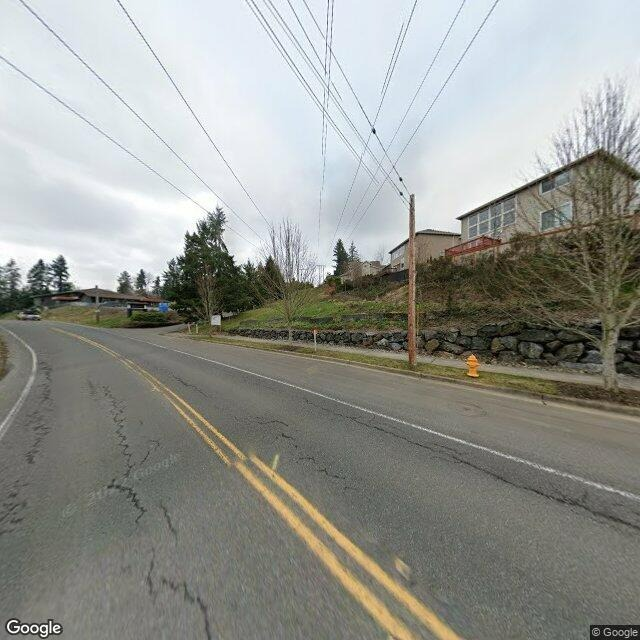hydrant: (454, 352, 482, 380)
